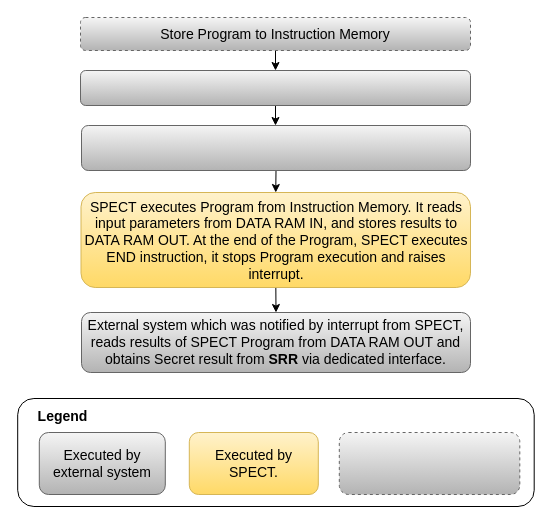
Some shapes in this 552 by 524 pixel diagram are drawn without their labels. The shapes that lost their labels are listed below. From the top down, each one's centre as x and y in pixels, then its label:
At point (275, 88): "Store input parameters for Program to DATA RAM IN.".
At point (275, 147): "Write INT_ENA[INT_DONE_EN] = 1. Launch program by writing COMMAND[START] = 1.".
At point (429, 463): "Optional, valid when Instruction Memory is RAM.".
